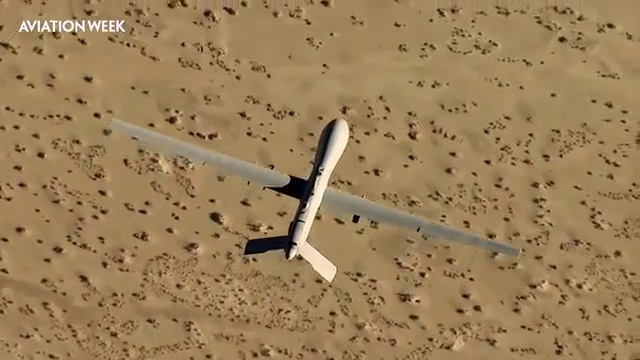military drone: (110, 117, 521, 284)
